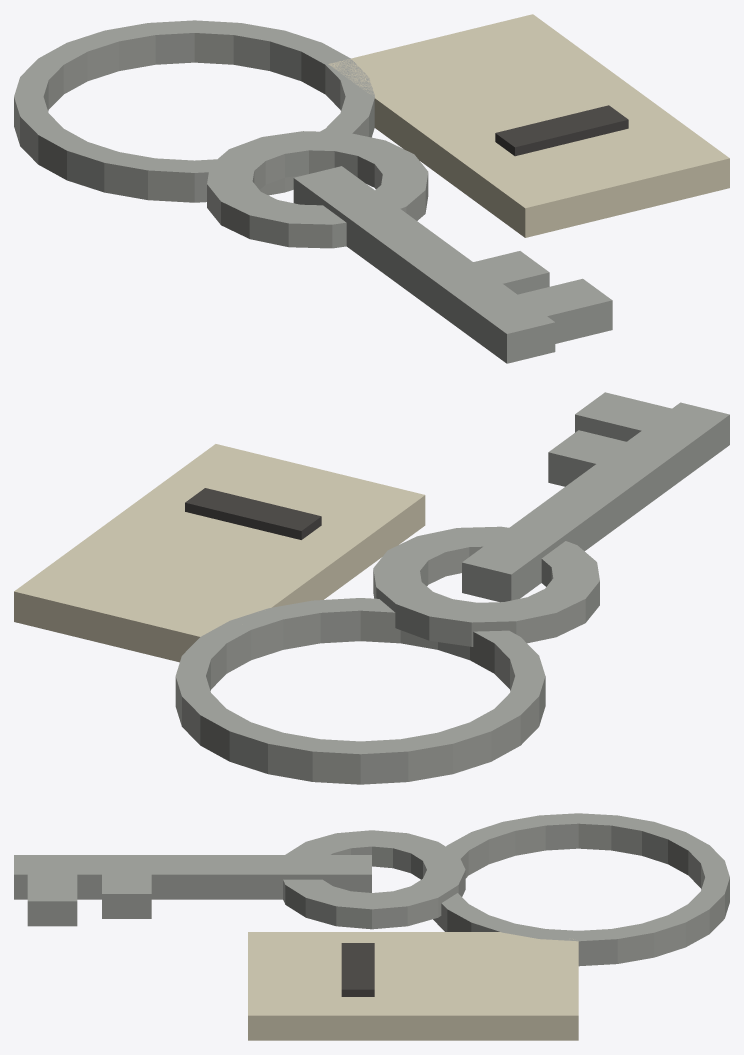
Rendered from signal-house-relay-room-key-pickup__210.glb.
3 renders of one model, top to bottom at view 1: azimuth 30°, elevation 25°; view 2: azimuth 150°, elevation 25°; view 3: azimuth 270°, elevation 25°, orthographic. The views are drawn at different scales.
Visible parts, largest first — view 1: metal, paper, dark; view 2: metal, paper, dark; view 3: metal, paper, dark.
Boxes of the visible parts, x1,y1,x2,y2 form: metal: (14,20,612,363); paper: (328,14,729,237); dark: (495,105,628,156); metal: (175,392,729,784); paper: (14,444,425,662); dark: (185,488,321,539); metal: (14,813,729,966); paper: (248,932,578,1040); dark: (341,943,374,996).
Size of the model in its own units: 0.174 by 0.015 by 0.26.
